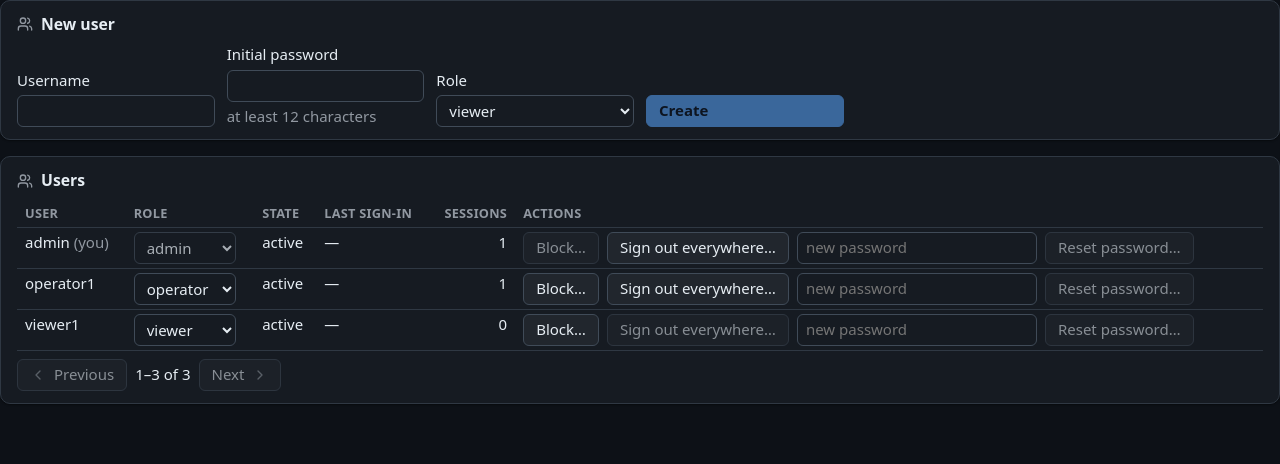
Test: UsersScreen › creates an account only with a valid name and a long password
Type "shift.lead" into the field labelled "Username" at (116,111), box [17,95,215,127]
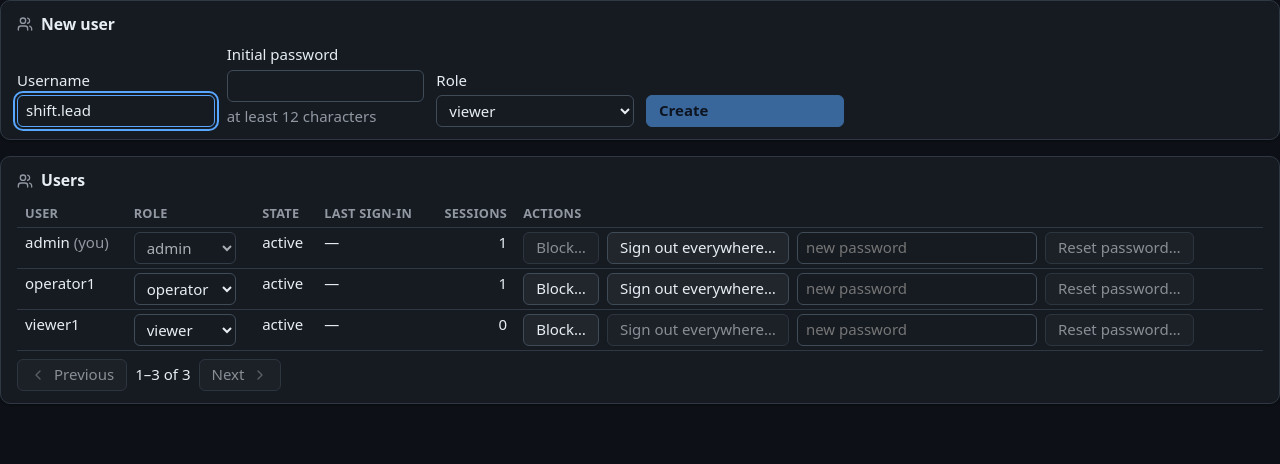
Type "short" into the password field labelled "Initial password at least 12 characters" at (326,86), box [227,70,424,102]
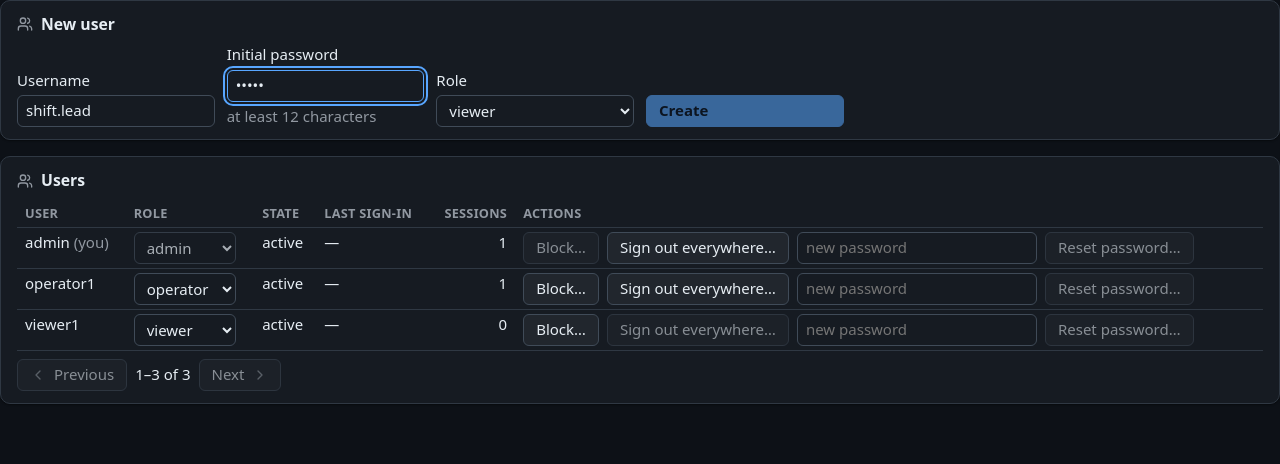
Expected: the button "Create" is disabled, [646,95,844,127]
Type "Harbour-Lantern-42" into the password field labelled "Initial password at least 12 characters" at (326,86), box [227,70,424,102]
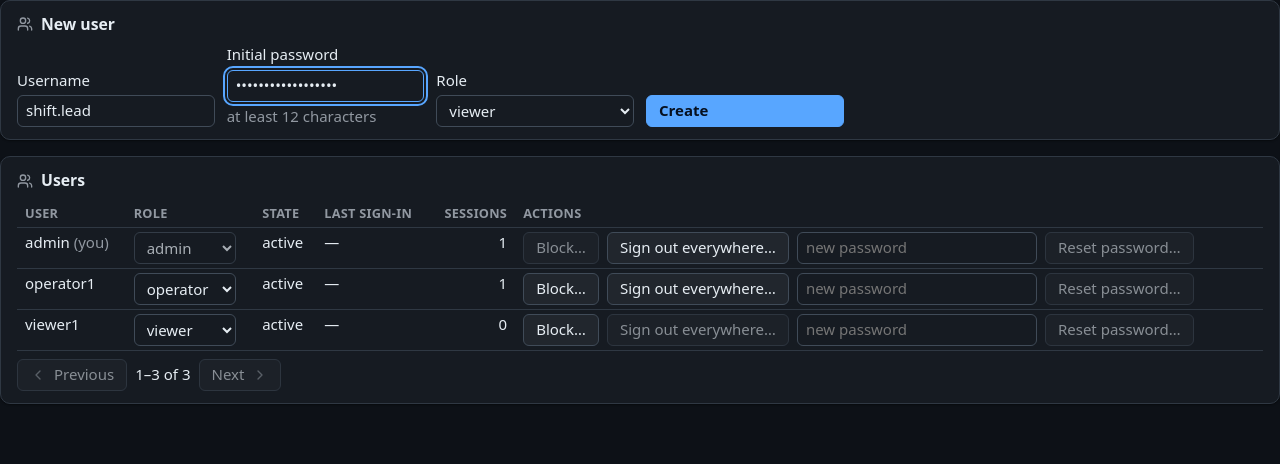
Select "engineer" in the dropdown labelled "Role" at (535,111), box [436,95,634,127]
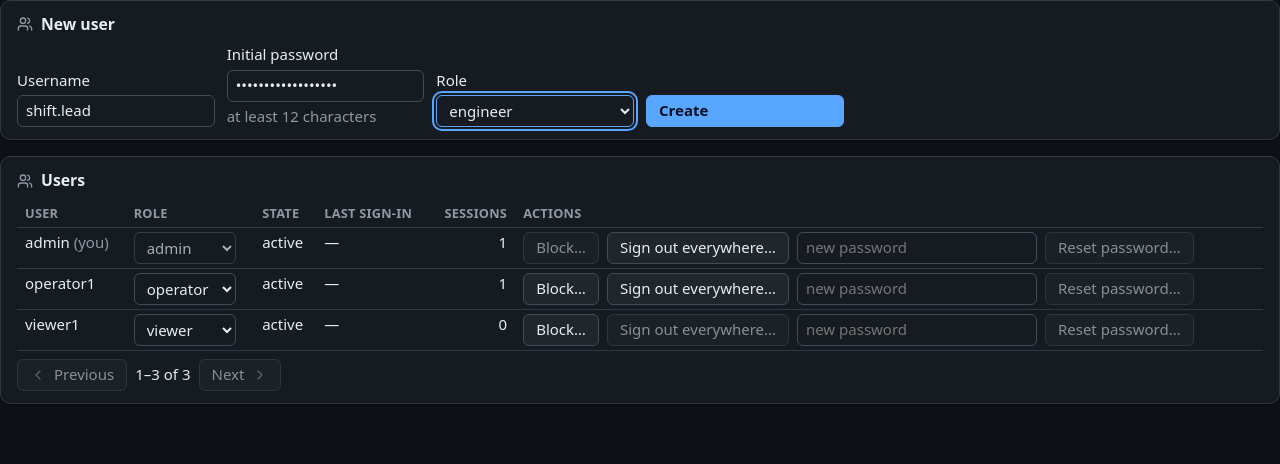
Expected: the button "Create" is enabled
Click the button "Create" at (745,111), box [646,95,844,127]
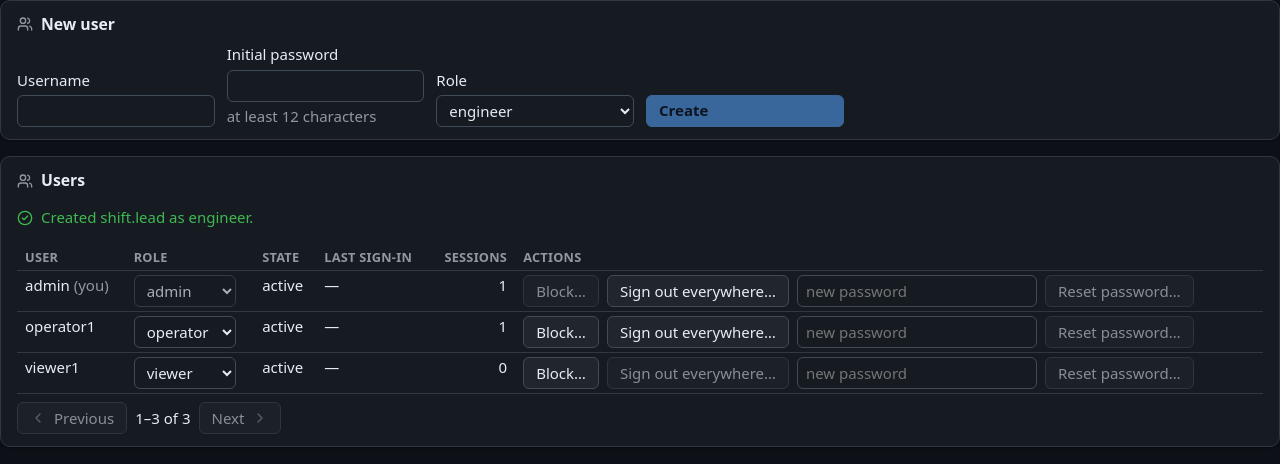
Expected: the message reads "Created shift.lead as engineer.", [41,207,253,227]
Expected: the field labelled "Username" is empty, [17,95,215,127]
